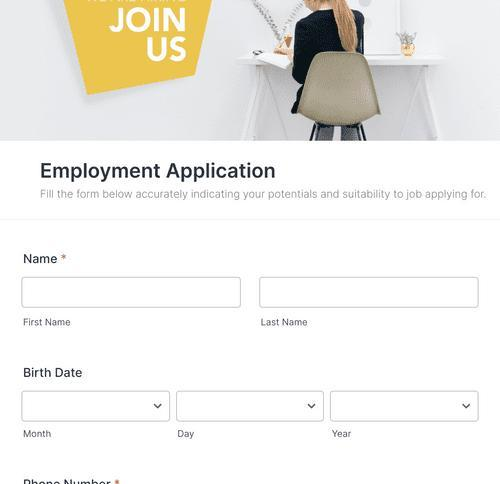dropdown: (331, 391, 481, 424), (177, 391, 325, 423), (23, 391, 172, 421)
input: (260, 278, 480, 310), (23, 278, 241, 308)
label: (39, 161, 277, 184), (22, 366, 84, 382), (23, 252, 68, 266)
